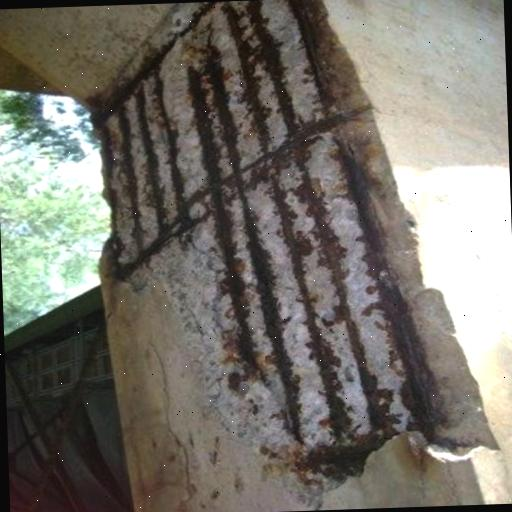spalling: (88, 0, 498, 510)
